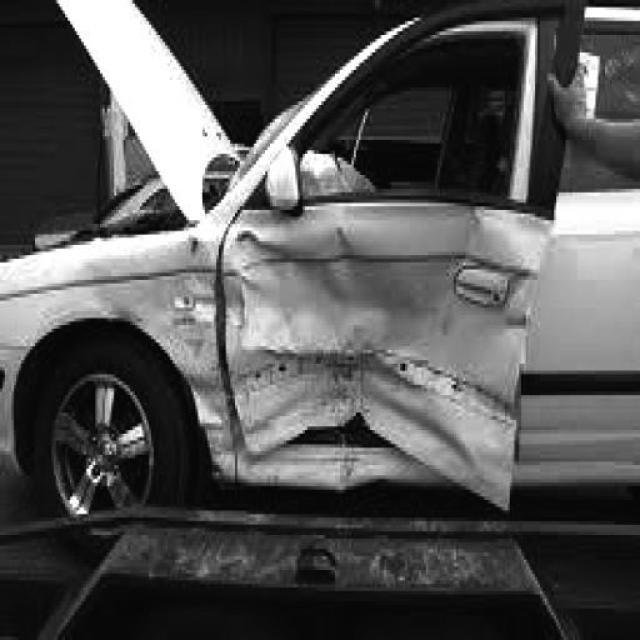car damage: (66, 193, 538, 518)
